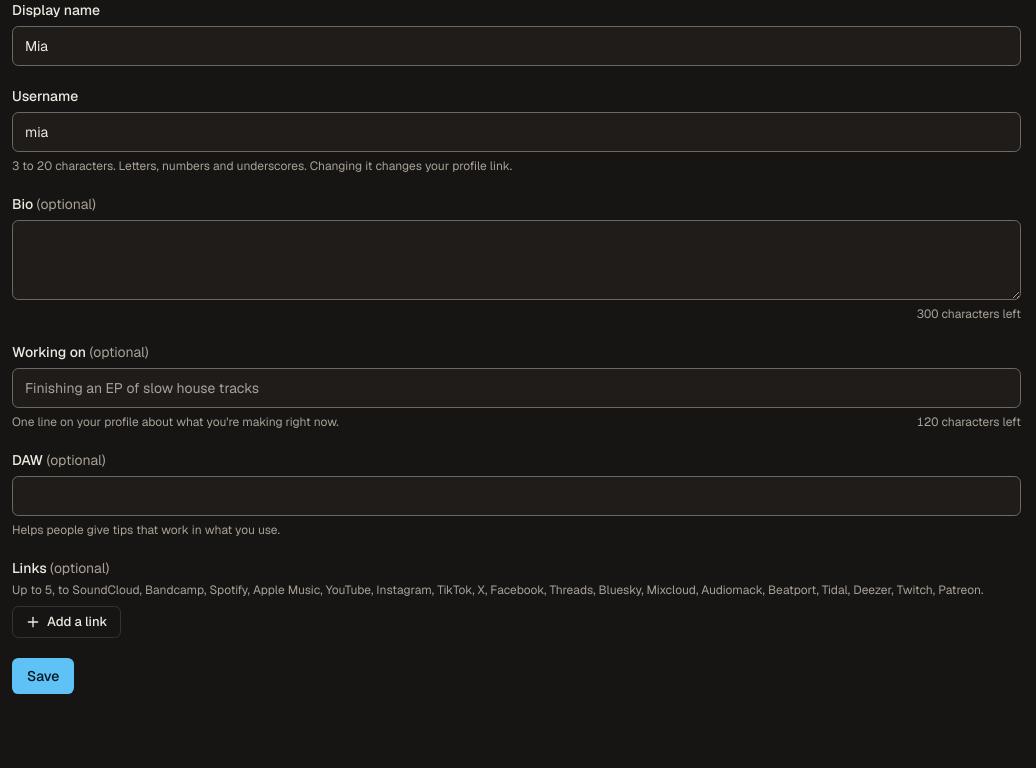
it: ProfileEditor › refuses links to hosts that are not allowed, next to the field
Click the button "Add a link": {"x": 66, "y": 622} [12,606,120,638]
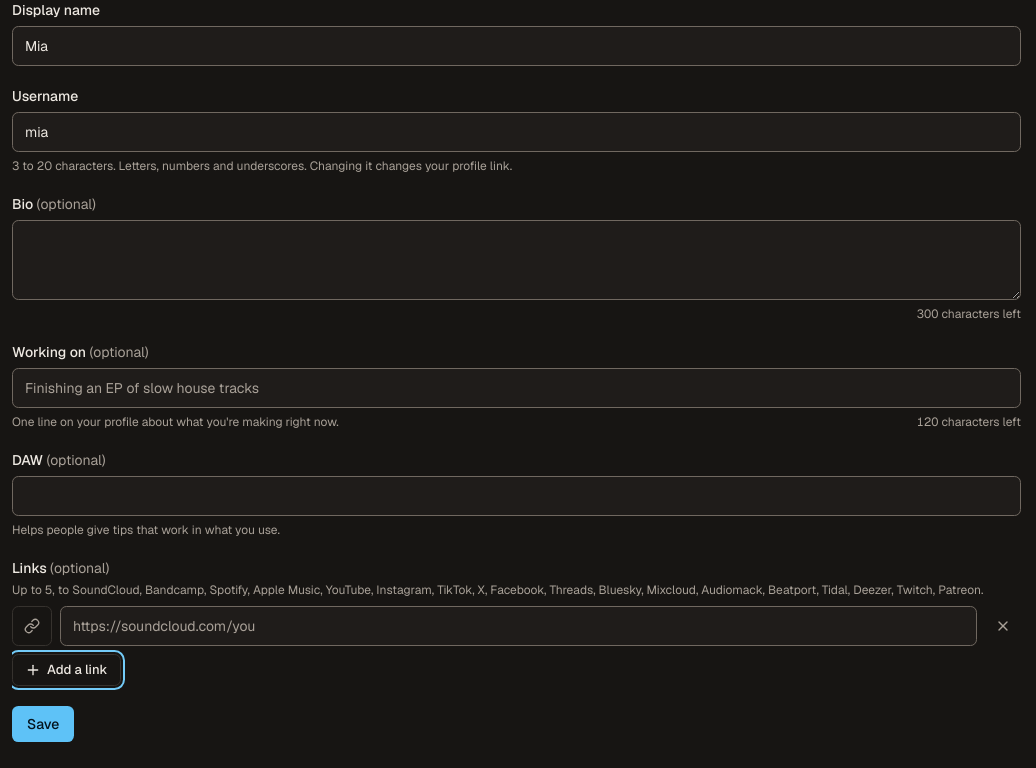
In the field named "Link 1 address": {"x": 518, "y": 626} [60,606,977,646], type "https://example.com/me"
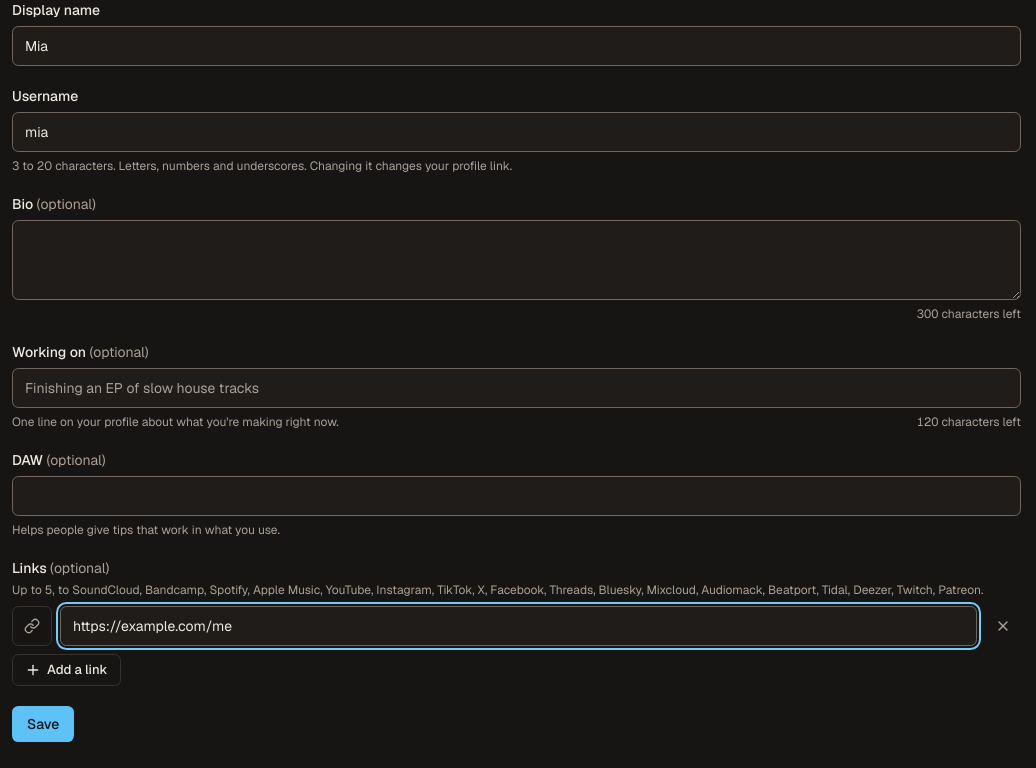
Click the button "Save": {"x": 43, "y": 724} [12,706,74,742]
(page scrolled)
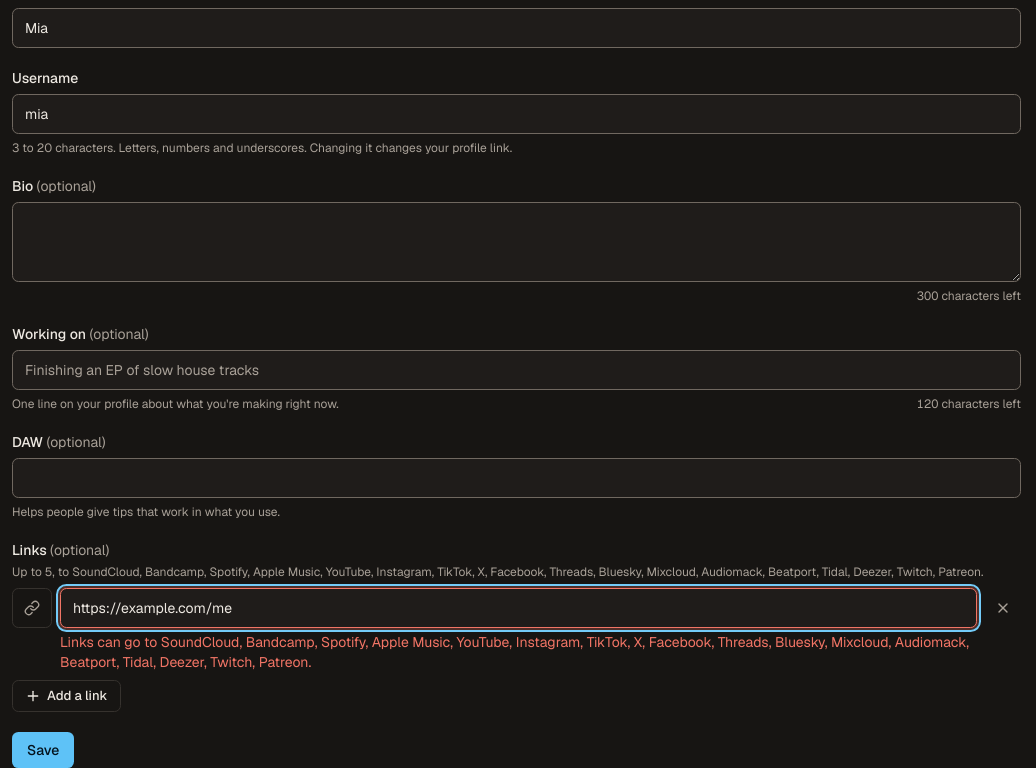
Check: the text "Links can go to SoundCloud" is shown, box [60,633,969,671]
